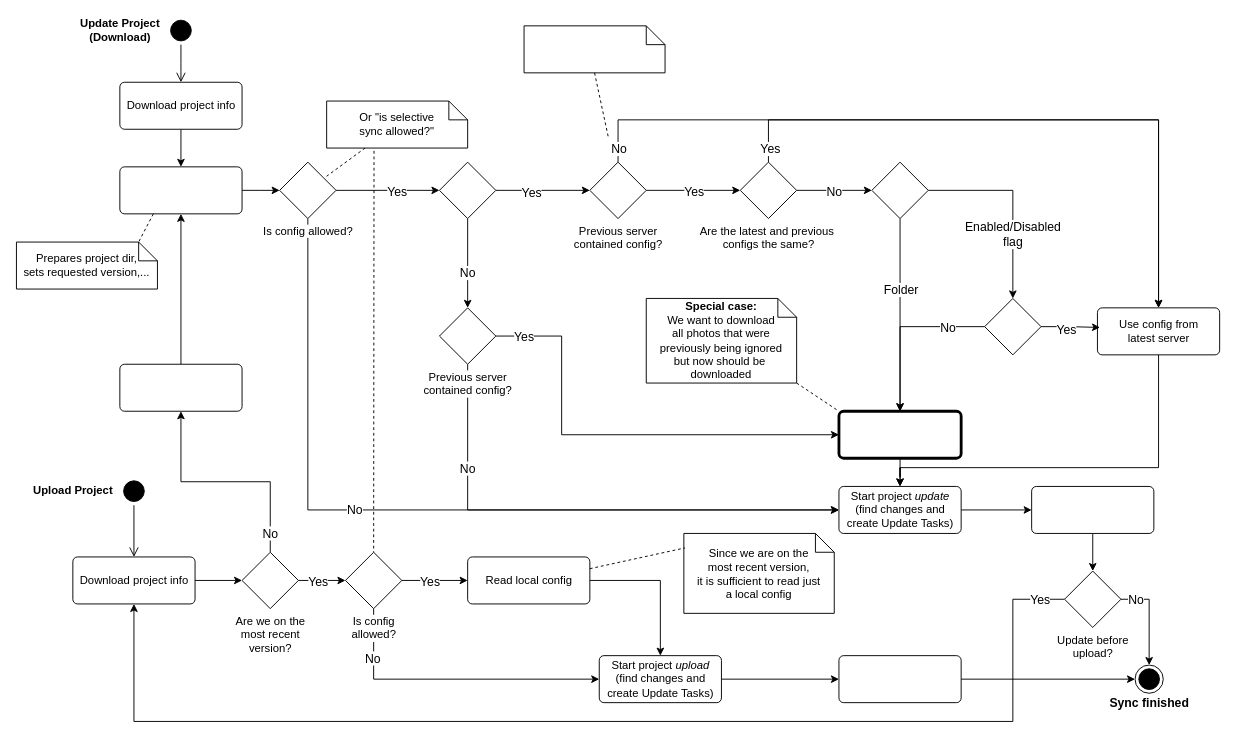
This 1236x745 diagram has some shape labels left out. The shapes that lost their labels are listed below. From the top down, each one's box as (x1, y1, x2, y2) in pixels, then its label:
(523, 25, 665, 73): Config was added to an existing project
(119, 166, 242, 214): Prepare update
(439, 161, 496, 219): Latest server contains config?
(871, 161, 928, 219): What was changed?
(984, 298, 1041, 355): Is it now enabled?
(119, 363, 242, 411): Set update before upload
(837, 409, 962, 459): Download missing photos (mark them to be downloaded)
(1031, 486, 1154, 533): Download & apply changes
(838, 655, 961, 703): Upload & apply changes
